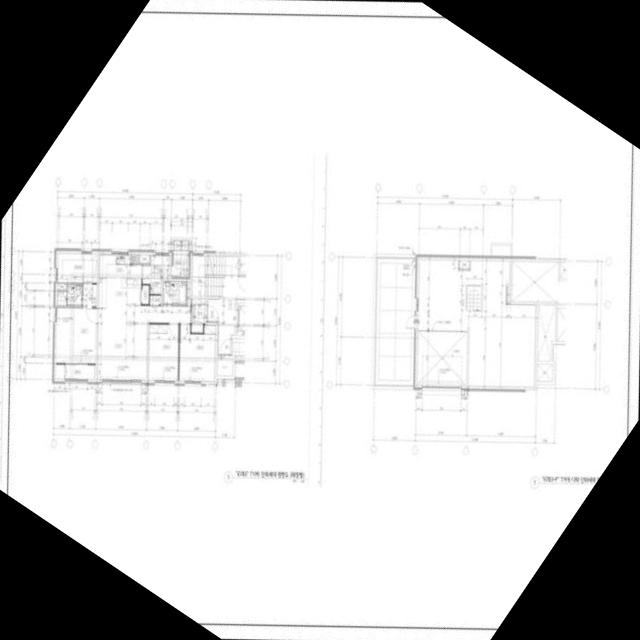background: (0, 0, 640, 640)
space_balconi: (142, 255, 170, 295), (65, 363, 95, 378)
space_bedroom: (56, 307, 96, 363), (178, 324, 216, 381), (148, 324, 179, 380)
space_dressroom: (58, 253, 97, 283), (83, 283, 97, 307)
space_elevator: (237, 302, 246, 335)
space_elevator_hall: (207, 296, 246, 355)
space_front: (191, 298, 207, 324), (191, 324, 203, 332)
space_kitchen: (99, 254, 141, 305)
space_living_room: (97, 298, 191, 379)
space_other: (418, 259, 536, 386), (375, 258, 415, 385), (217, 358, 233, 376), (141, 285, 149, 303), (56, 363, 64, 378), (149, 295, 161, 304), (139, 254, 149, 263), (459, 260, 469, 268), (57, 283, 66, 289), (507, 286, 510, 302), (187, 281, 190, 296)
space_staircase: (192, 255, 246, 296), (466, 285, 481, 310)
space_toilet: (163, 280, 187, 304), (57, 284, 82, 306)
